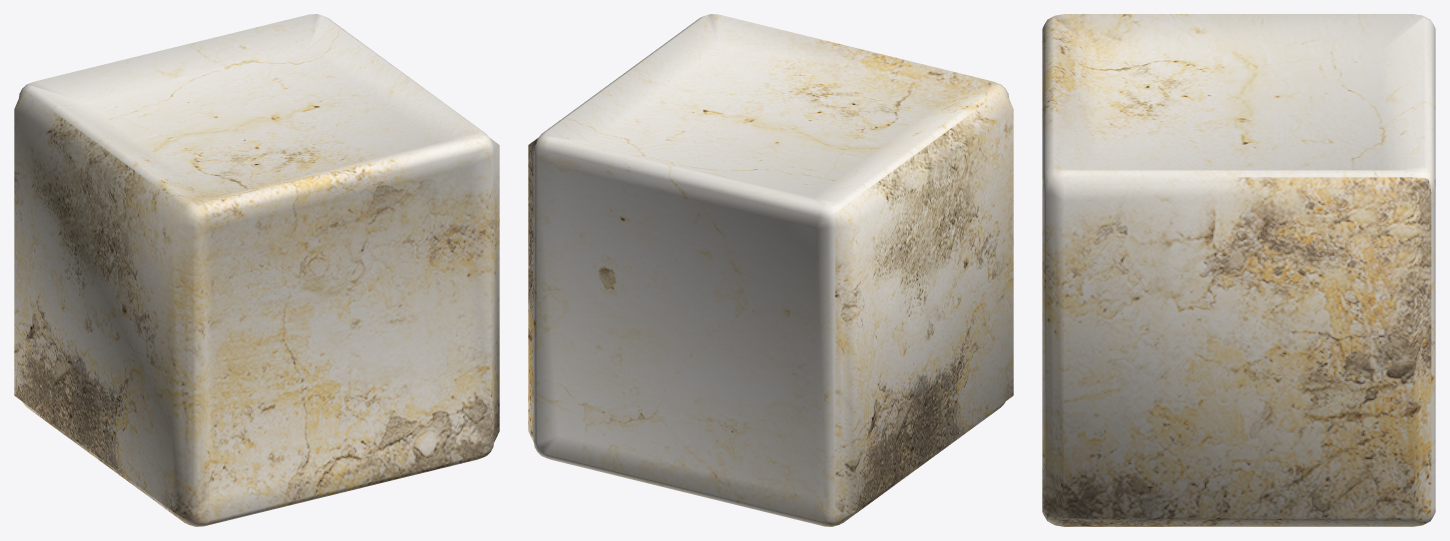
File: 000_item box.fbx
3 renders of one model, left to right at view 1: azimuth 30°, elevation 25°; view 2: azimuth 150°, elevation 25°; view 3: azimuth 270°, elevation 25°, orthographic. The views are drawn at different scales.
Parts seen in each view (by area): view 1: Box001; view 2: Box001; view 3: Box001.
Boxes of the visible parts, left/top/right/bottom form: Box001: left=14, top=14, right=499, bottom=526; Box001: left=528, top=14, right=1013, bottom=526; Box001: left=1042, top=14, right=1435, bottom=526.
Bounding box in the file's own units: 29042 × 27473 × 27369.
